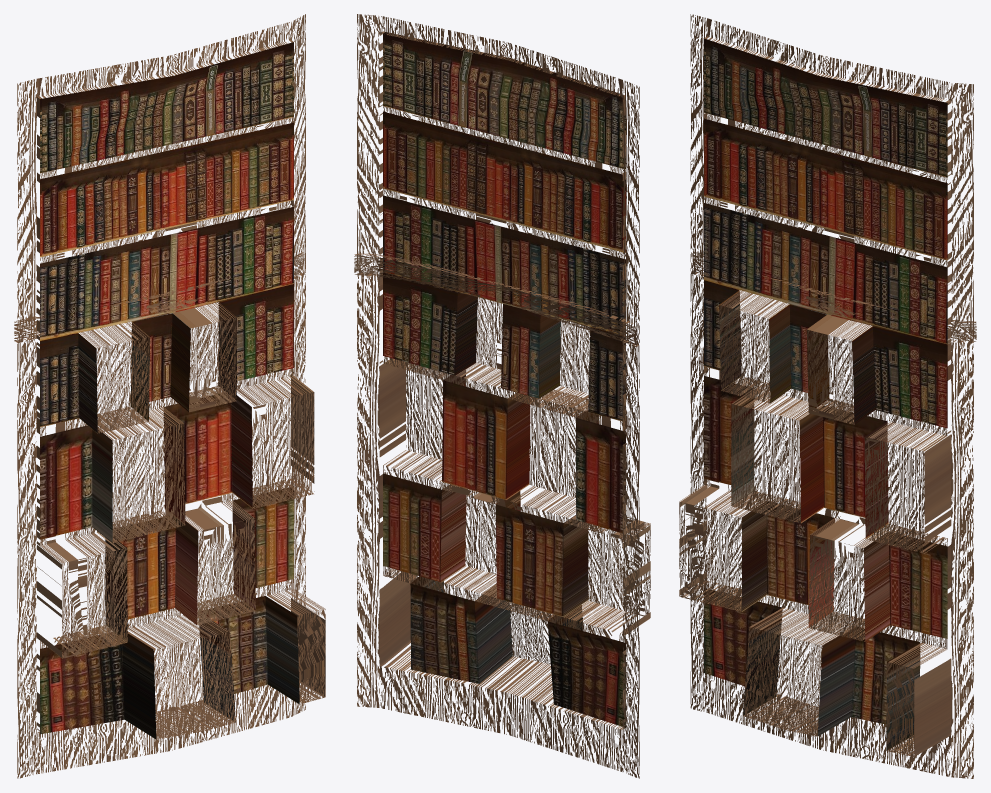
Rendered from pareteF.fbx.
The picture shows the model from 3 angles, left to right: view 1: azimuth 30°, elevation 25°; view 2: azimuth 150°, elevation 25°; view 3: azimuth 330°, elevation 25°; orthographic projection.
Parts seen in each view (by area): view 1: Circle.001; view 2: Circle.001; view 3: Circle.001.
Boxes of the visible parts, x1,y1,x2,y2 form: Circle.001: (14, 14, 325, 778); Circle.001: (354, 14, 650, 778); Circle.001: (679, 14, 976, 778).
Size of the model in its own units: 536 by 1246 by 161.
